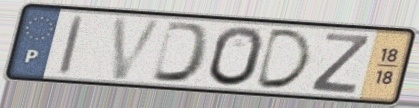D: (148, 19, 214, 85), (251, 27, 314, 91)
I: (55, 13, 87, 78)
O: (207, 24, 267, 89)
V: (109, 15, 168, 82)
Z: (307, 30, 373, 96)
